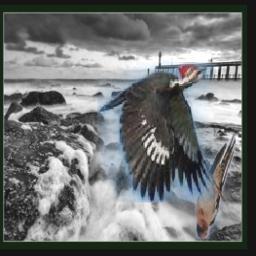Swallow: (195, 134, 236, 239)
Woodpecker: (97, 63, 216, 203)
